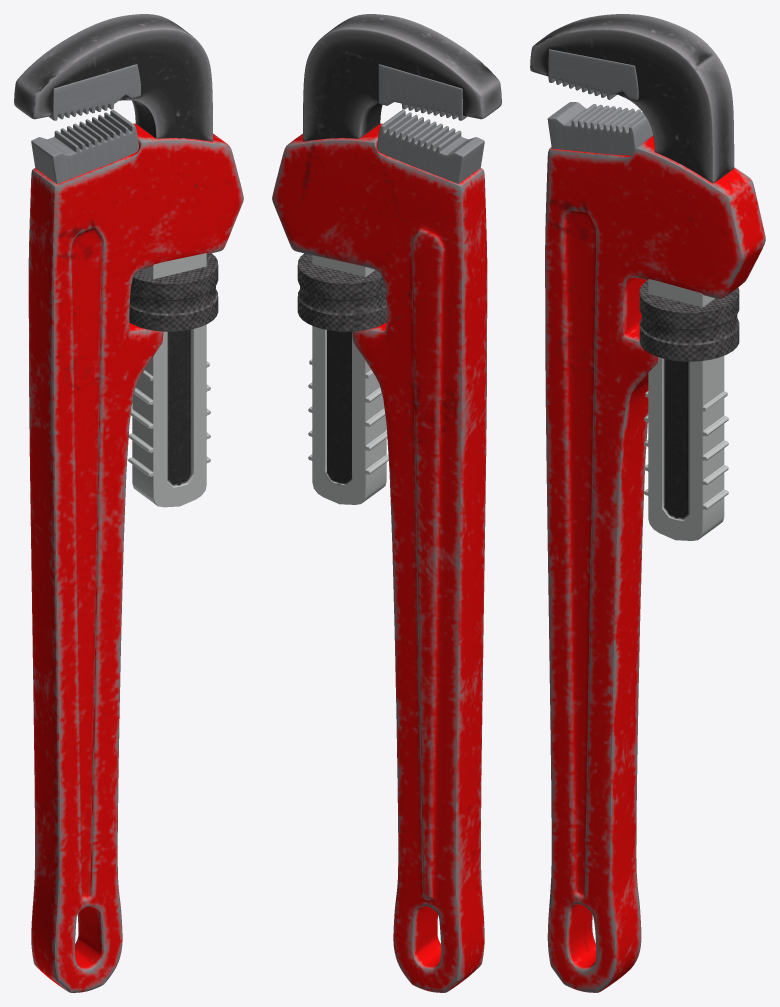
File: Pipe.glb
The picture shows the model from 3 angles, left to right: view 1: azimuth 30°, elevation 25°; view 2: azimuth 150°, elevation 25°; view 3: azimuth 330°, elevation 25°; orthographic projection. The views are drawn at different scales.
Visible parts, largest first — view 1: Cube; view 2: Cube; view 3: Cube.
Part boxes in pixels (x1,y1,x2,y2): Cube: (14,14,243,992); Cube: (272,14,501,992); Cube: (530,14,765,992).
Bounding box in the file's own units: 1.13 × 4.85 × 0.4534.
Materials: 1 (1 with a texture image).
